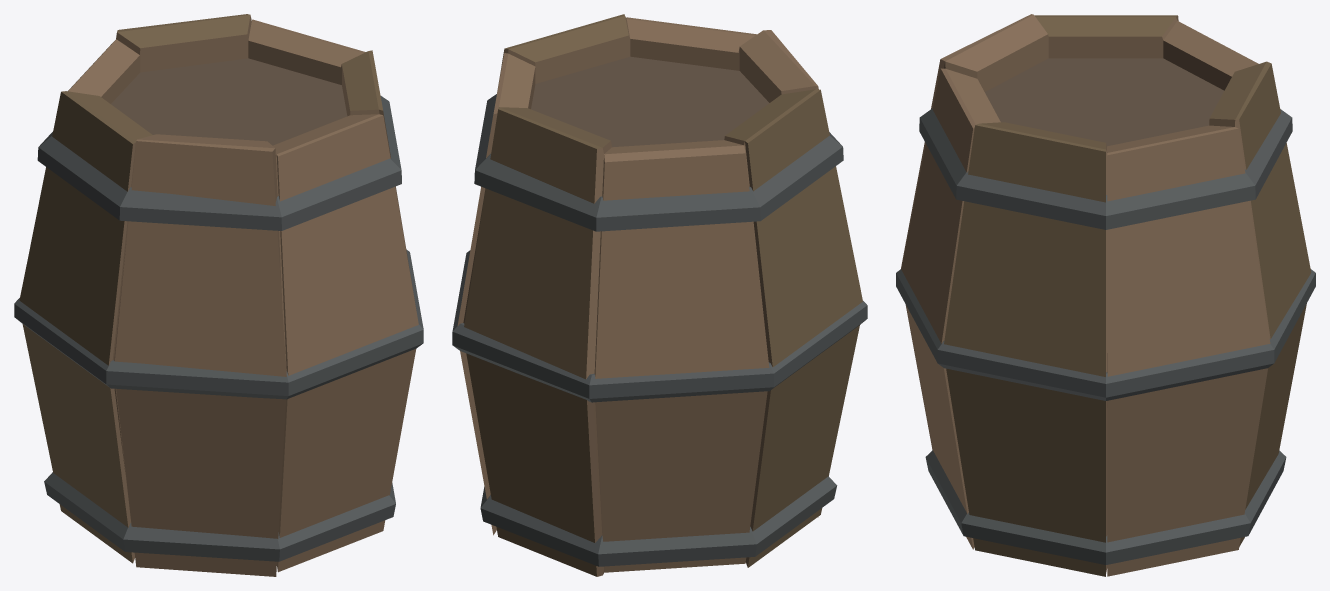
The model's file is barrel.fbx.
3 views of the same model, side by side, from view 1: azimuth 30°, elevation 25°; view 2: azimuth 150°, elevation 25°; view 3: azimuth 270°, elevation 25° (orthographic).
Parts seen in each view (by area): view 1: barrelBody, metalRing1, metalRing, metalRing2; view 2: barrelBody, metalRing1, metalRing, metalRing2; view 3: barrelBody, metalRing1, metalRing, metalRing2.
Boxes of the visible parts, x1,y1,x2,y2 form: barrelBody: (19, 14, 418, 576); metalRing1: (37, 96, 401, 230); metalRing: (14, 249, 423, 399); metalRing2: (44, 472, 395, 561); barrelBody: (457, 14, 862, 576); metalRing1: (474, 94, 843, 231); metalRing: (452, 250, 867, 402); metalRing2: (480, 476, 837, 566); barrelBody: (901, 14, 1311, 576); metalRing1: (919, 108, 1292, 229); metalRing: (896, 269, 1315, 400); metalRing2: (925, 450, 1286, 564).
Size of the model in its own units: 59.85 by 69.76 by 61.39.
